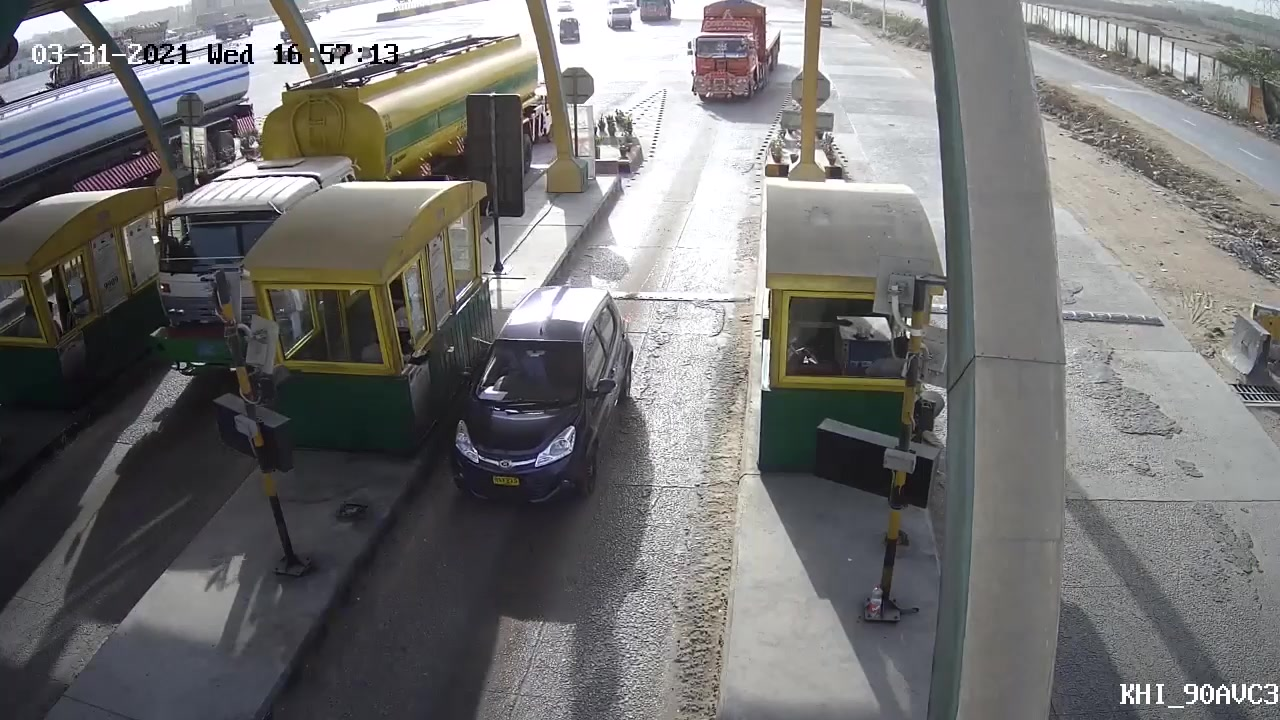F1: (439, 286, 639, 500)
F6: (687, 1, 785, 112)
